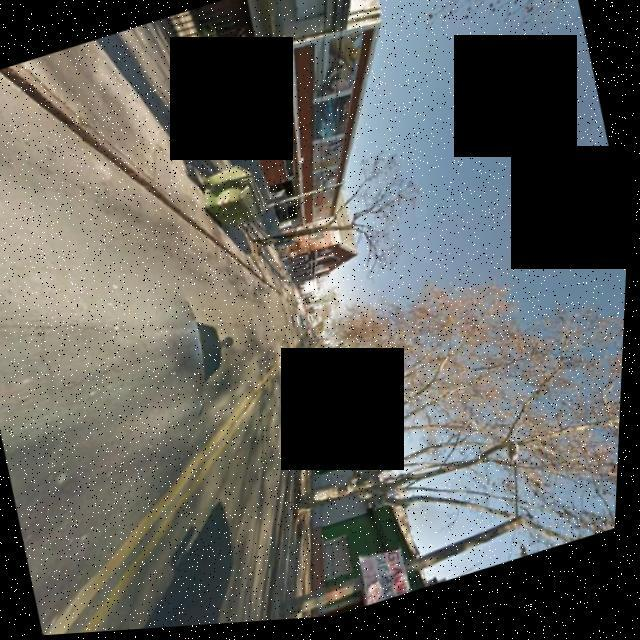bin: (186, 151, 280, 251)
